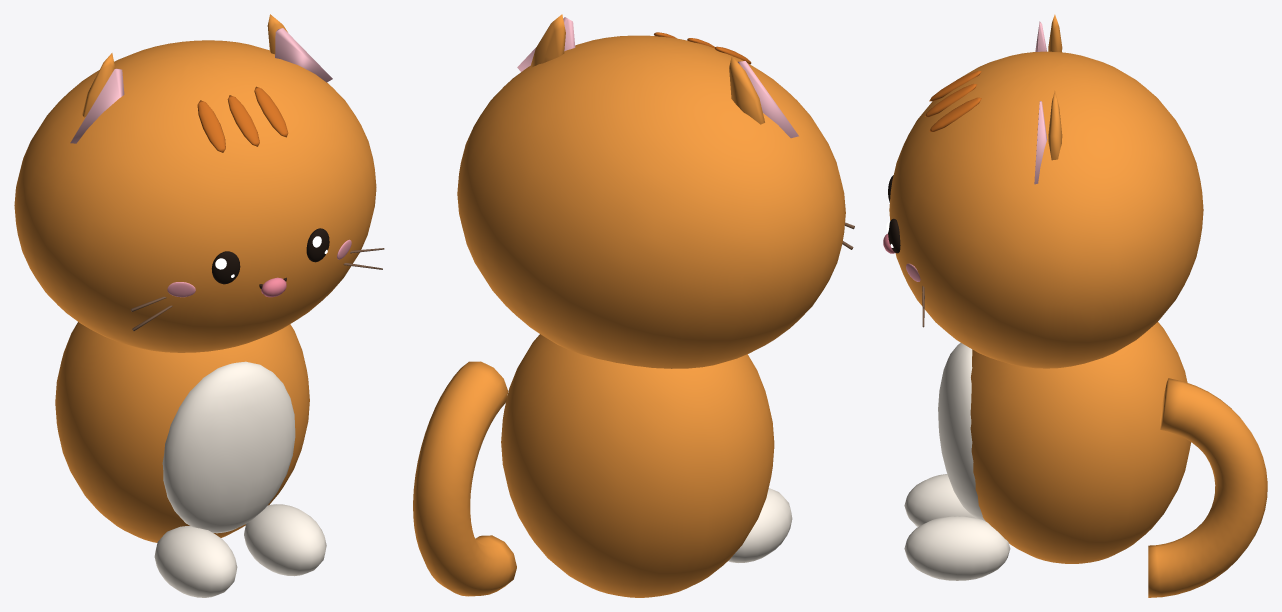
File: p-cat.glb
3 renders of one model, left to right at view 1: azimuth 30°, elevation 25°; view 2: azimuth 150°, elevation 25°; view 3: azimuth 270°, elevation 25°, orthographic. The views are drawn at different scales.
Parts seen in each view (by area): view 1: p-cat, ear-R, ear-L, blink-R, blink-L; view 2: p-cat, wag, ear-R, ear-L; view 3: p-cat, wag, ear-L, ear-R.
Boxes of the visible parts, x1,y1,x2,y2 form: p-cat: (14, 40, 384, 597); ear-R: (70, 53, 124, 143); ear-L: (267, 14, 332, 82); blink-R: (211, 251, 240, 284); blink-L: (306, 228, 329, 262); p-cat: (457, 32, 854, 597); wag: (413, 361, 516, 596); ear-R: (729, 55, 798, 138); ear-L: (517, 14, 575, 71); p-cat: (883, 51, 1203, 580); wag: (1148, 378, 1267, 597); ear-L: (1034, 90, 1062, 184); ear-R: (1035, 14, 1062, 52).
Size of the model in its own units: 0.1732 by 0.26 by 0.1798.
